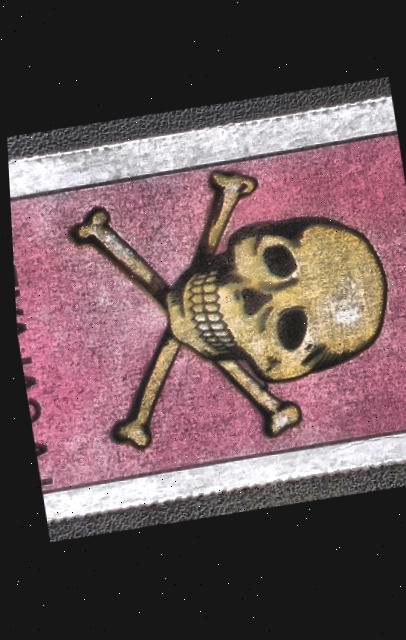La Calavera: (5, 117, 406, 505)
